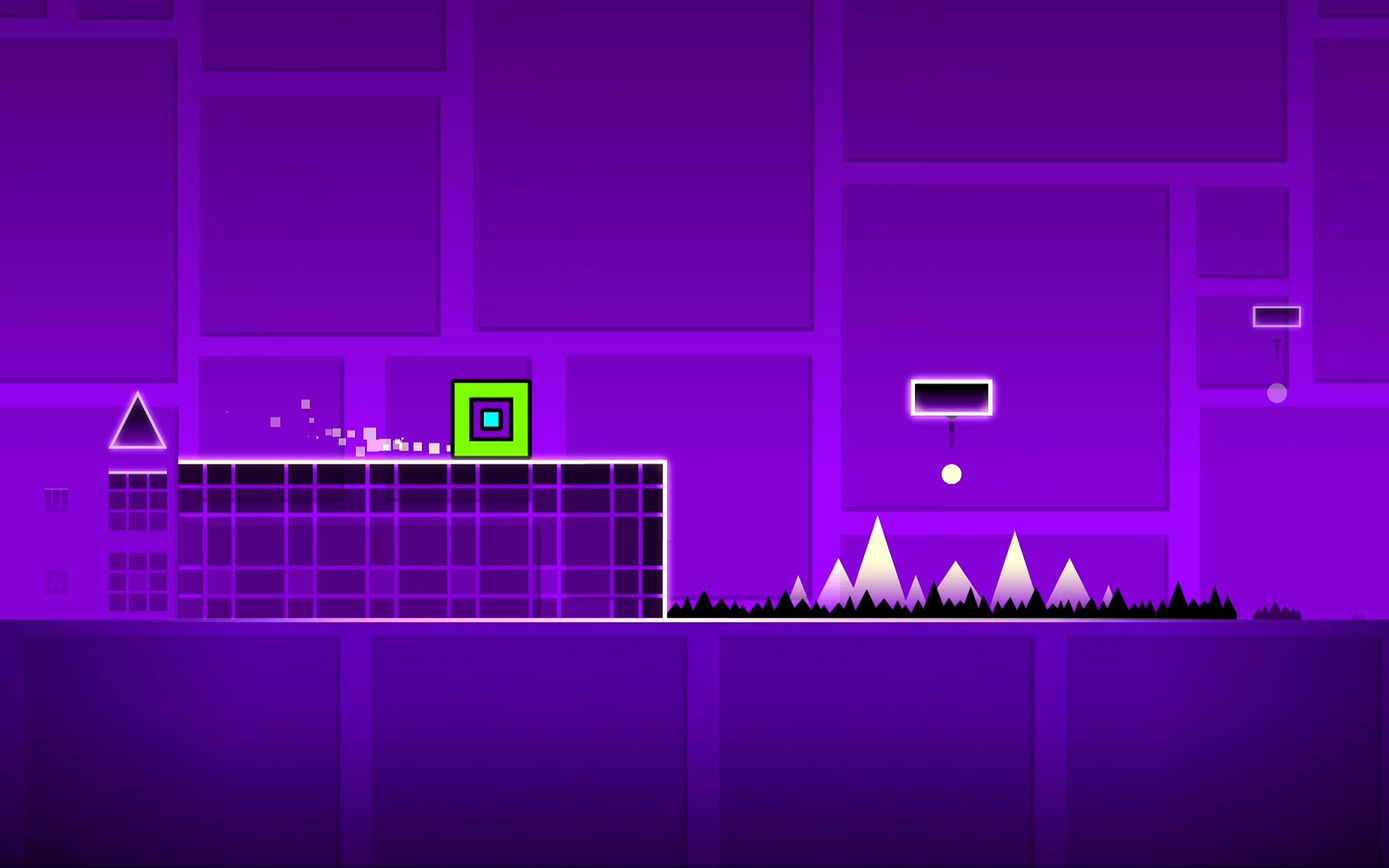Block2: (98, 460, 662, 616)
Block3: (909, 378, 993, 415), (1252, 305, 1300, 326)
Player: (449, 380, 531, 457)
Spike: (107, 392, 167, 449)
Spike3: (680, 584, 1341, 622)
